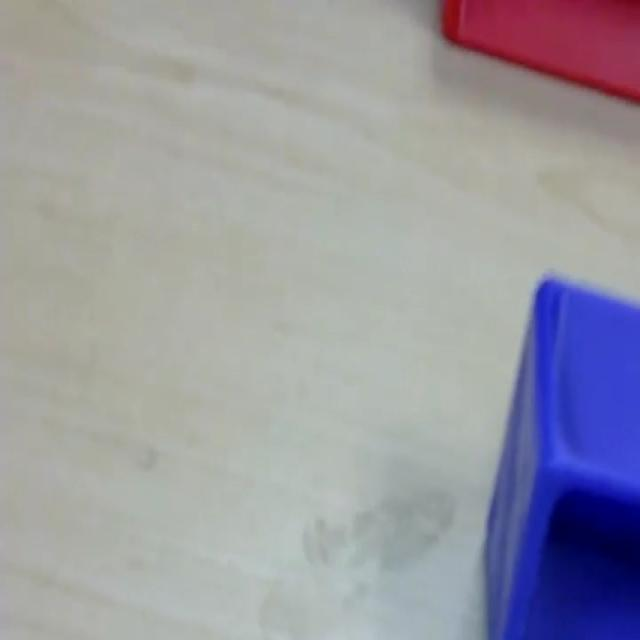blue_block: (482, 271, 638, 636)
red_block: (439, 0, 638, 105)
